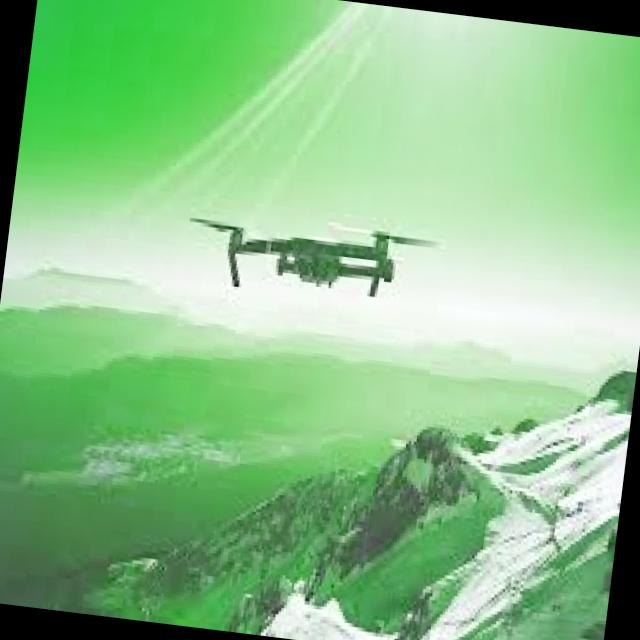drone: (168, 182, 463, 336)
